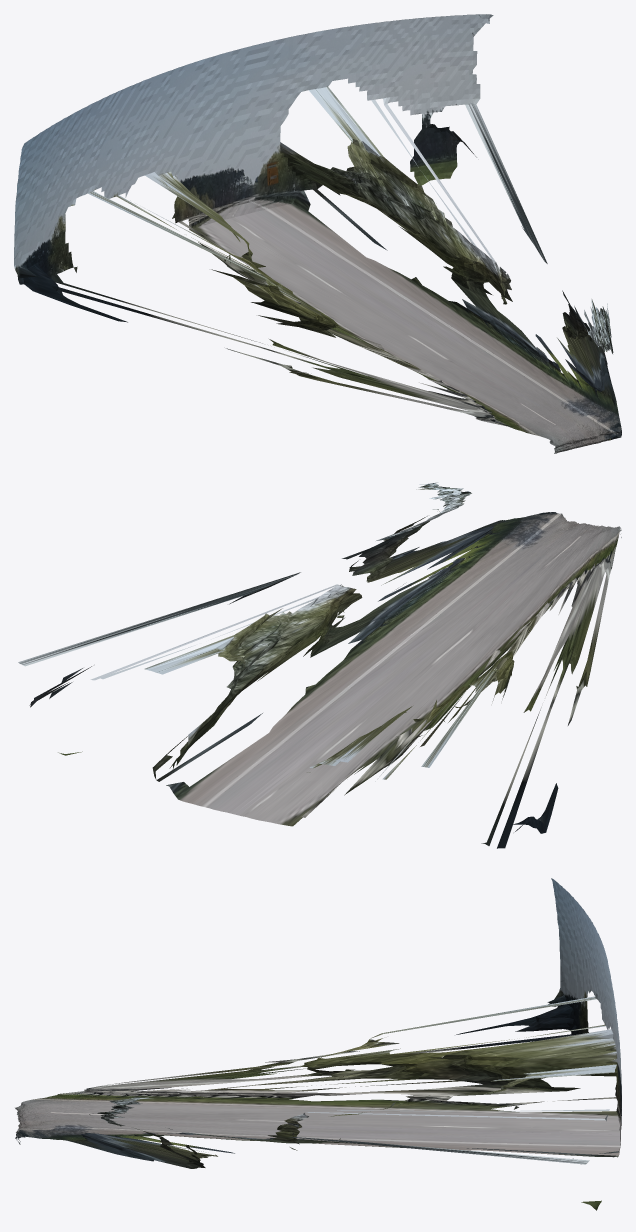
3 renders of one model, top to bottom at view 1: azimuth 30°, elevation 25°; view 2: azimuth 150°, elevation 25°; view 3: azimuth 270°, elevation 25°, orthographic. The views are drawn at different scales.
Parts seen in each view (by area): view 1: defaultobject; view 2: defaultobject; view 3: defaultobject.
Boxes of the visible parts, bbox=[...] form: defaultobject: bbox=[14, 14, 621, 453]; defaultobject: bbox=[18, 482, 621, 848]; defaultobject: bbox=[15, 878, 621, 1210].
Bounding box in the file's own units: 36.77 × 12.47 × 44.39.
Materials: 1 (1 with a texture image).
